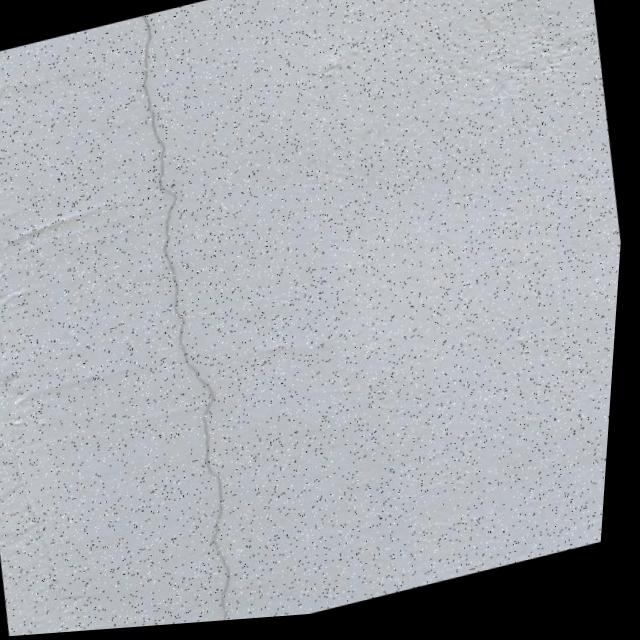Crack: (81, 0, 305, 633)
